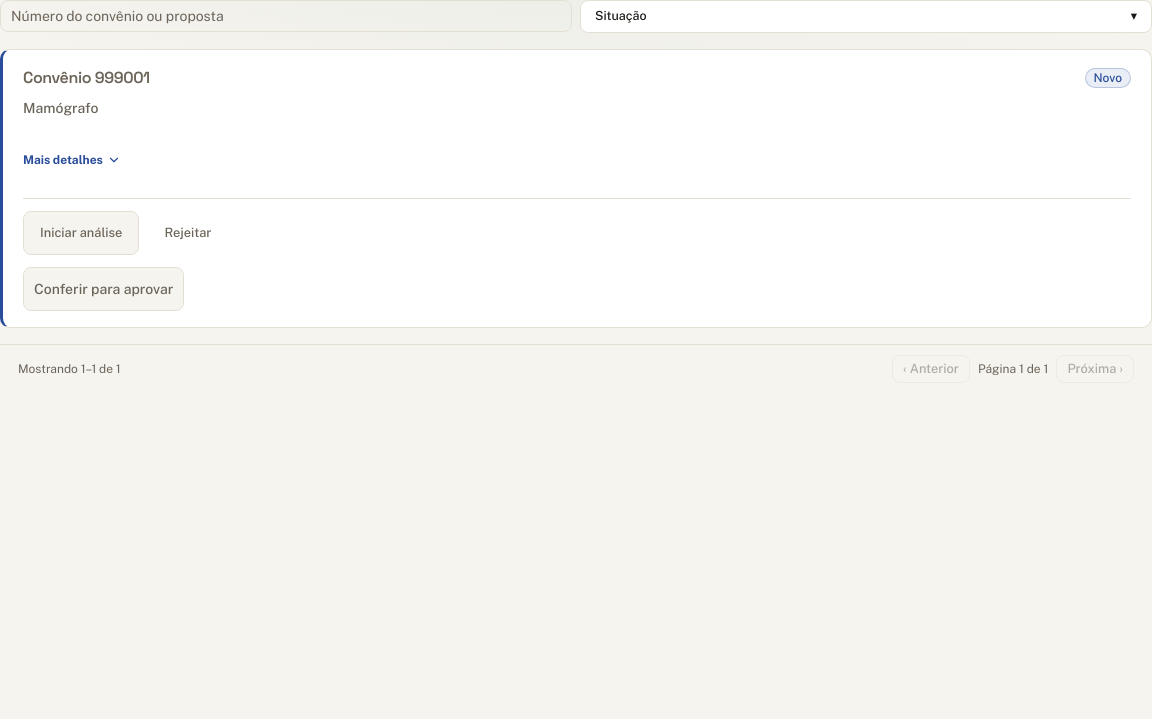
Test case: conferência e aprovação no Radar › aprova com prova revisada e atualiza a lista e os caches dependentes
This screenshot has width=1152, height=719.
Click the button "Conferir para aprovar" at (104,289), box [23,267,184,311]
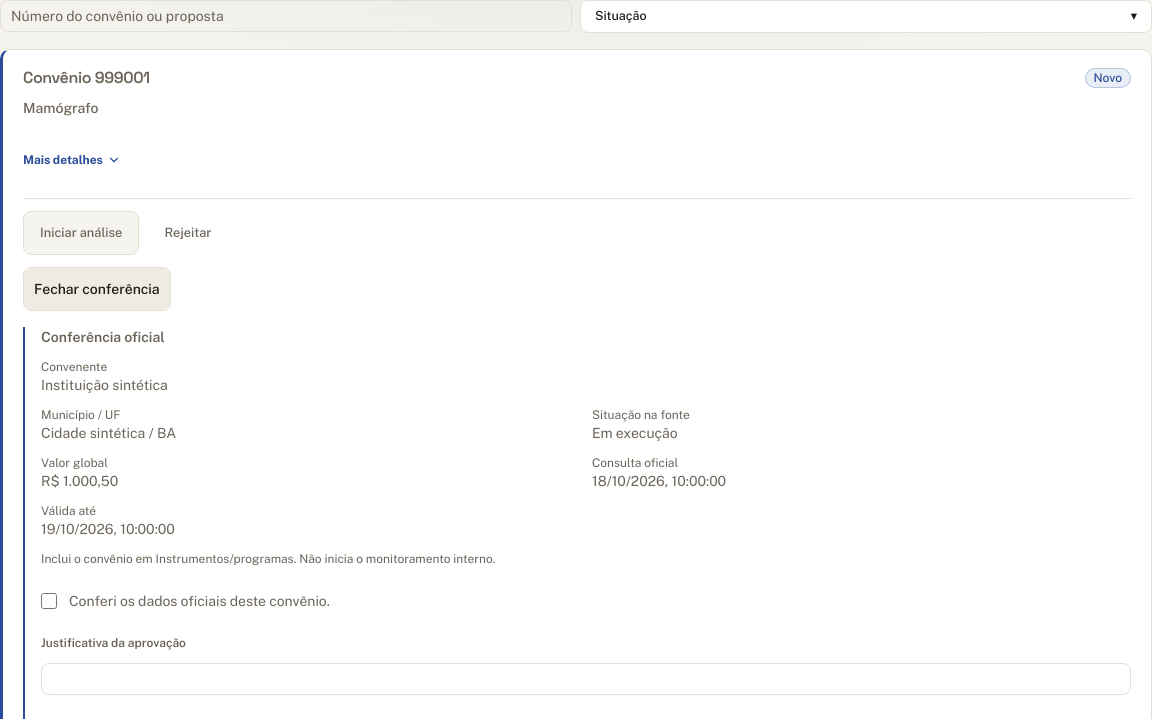
Expected: the field labelled "Justificativa da aprovação" is shown
Type "Aquisição conferida pela gestão" into the field labelled "Justificativa da aprovação" at (586,679), box [41,663,1131,695]
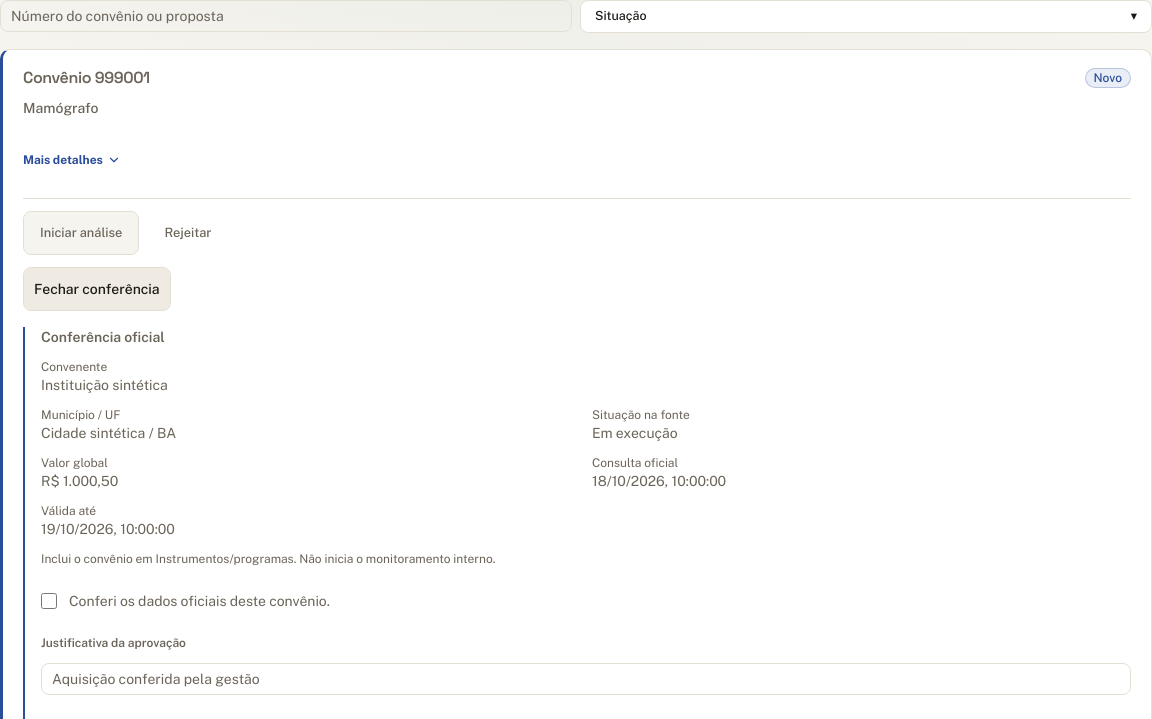
Click the checkbox labelled "Conferi os dados oficiais deste convênio." at (49,601), box [41,593,57,609]
(page scrolled)
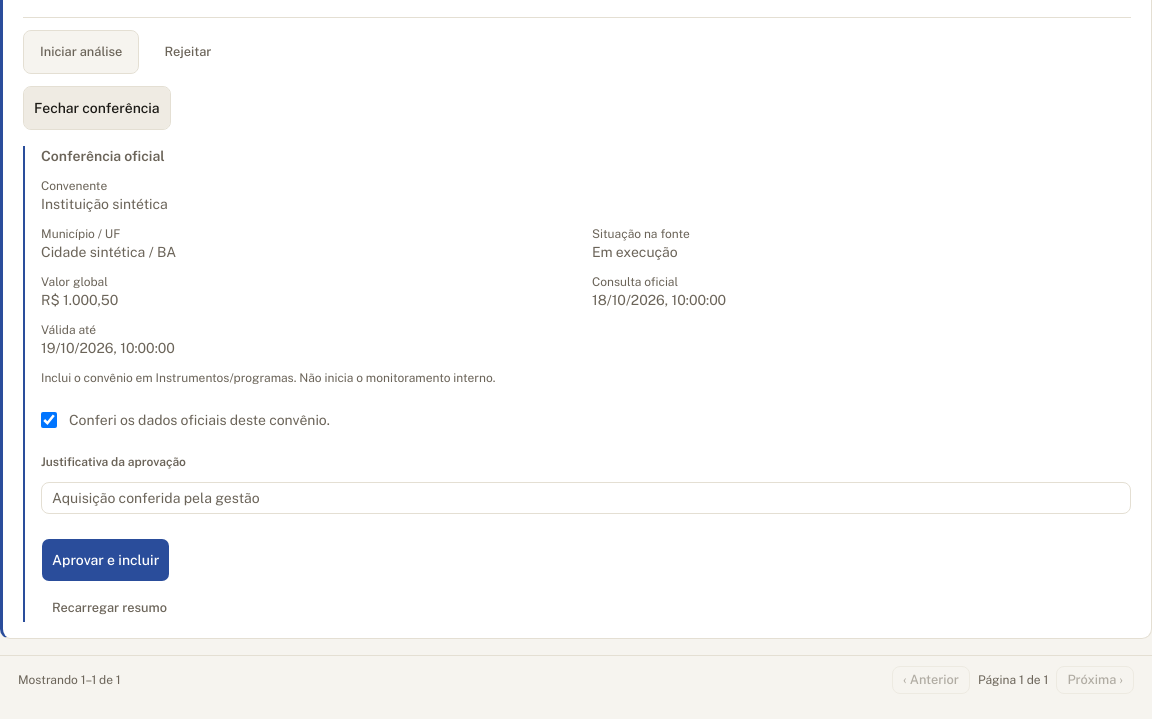
Click the button "Aprovar e incluir" at (106,560), box [41,538,170,582]
(page scrolled)
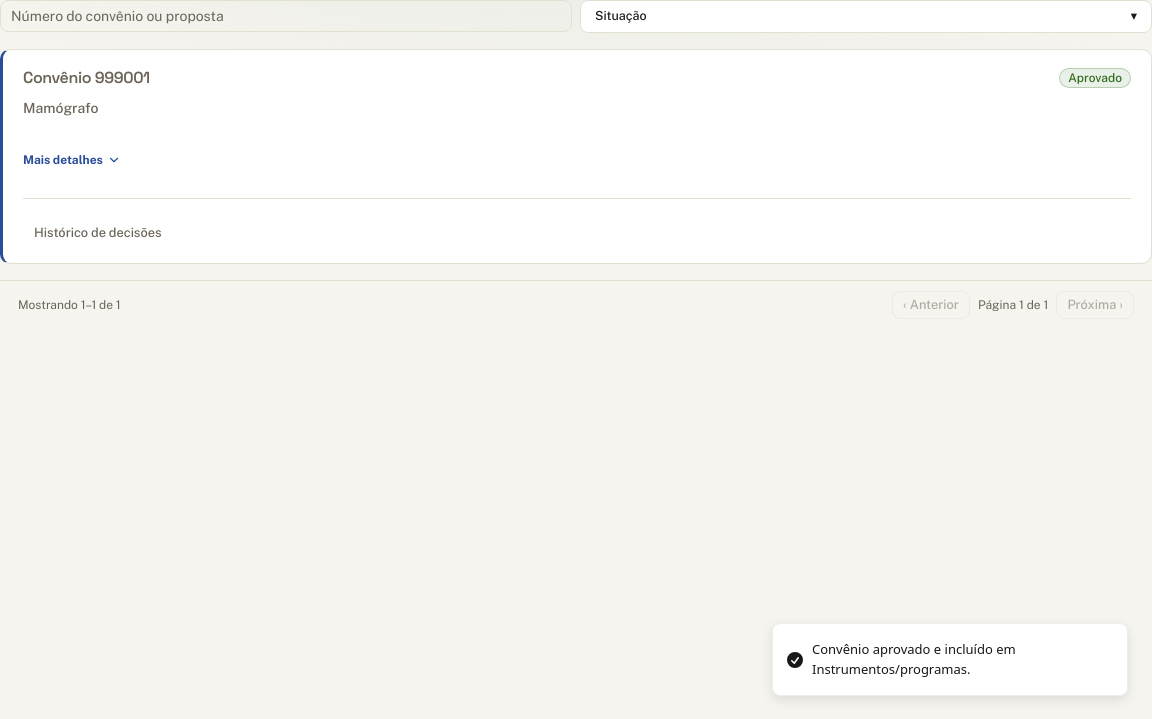
Expected: the button "Conferir para aprovar" is not shown
Expected: the text "Aprovado" is shown, [1059,68,1131,88]
